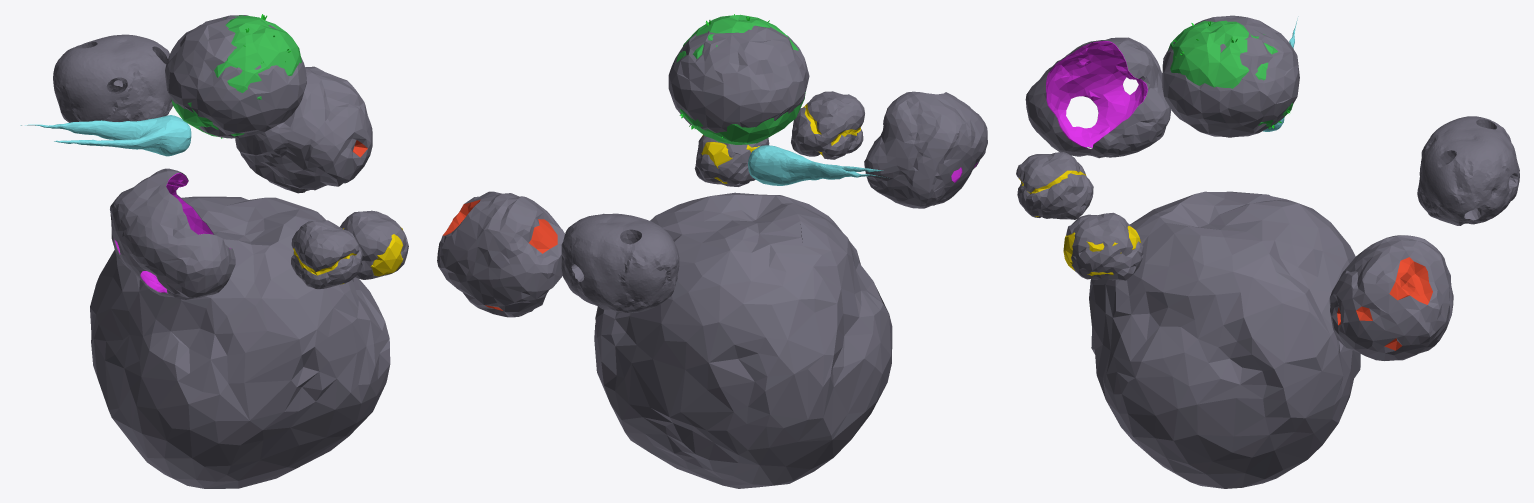
Rendered from Astroids2.fbx.
3 views of the same model, side by side, from view 1: azimuth 30°, elevation 25°; view 2: azimuth 150°, elevation 25°; view 3: azimuth 270°, elevation 25° (orthographic).
Visible parts, largest first — view 1: LargeAsteroid, MoletenMeteor, Geode, MossyAsteroid, ErodedAsteroid, Moss, GoldAsteroid, Comet, GoldAsteroid2, Amethyst, GoldOre; view 2: LargeAsteroid, MoletenMeteor, MossyAsteroid, Geode, ErodedAsteroid, GoldAsteroid, Moss, Comet, GoldAsteroid2; view 3: LargeAsteroid, MoletenMeteor, MossyAsteroid, ErodedAsteroid, Geode, Amethyst, Moss, GoldAsteroid, GoldAsteroid2, GoldOre.
Part boxes in pixels (x1,y1,x2,y2): LargeAsteroid: (90,196,390,488); MoletenMeteor: (235,66,372,193); Geode: (110,168,235,299); MossyAsteroid: (165,15,306,138); ErodedAsteroid: (53,34,172,122); Moss: (171,15,301,138); GoldAsteroid: (291,220,362,289); Comet: (20,115,191,156); GoldAsteroid2: (340,210,408,279); Amethyst: (114,172,230,292); GoldOre: (343,227,403,276); LargeAsteroid: (594,192,892,488); MoletenMeteor: (437,191,564,317); MossyAsteroid: (668,25,809,132); Geode: (864,91,987,208); ErodedAsteroid: (561,213,679,312); GoldAsteroid: (791,91,864,159); Moss: (676,14,805,144); Comet: (748,145,887,185); GoldAsteroid2: (694,135,769,186); LargeAsteroid: (1089,191,1360,488); MoletenMeteor: (1329,235,1453,360); MossyAsteroid: (1162,15,1299,137); ErodedAsteroid: (1417,116,1519,225); Geode: (1025,37,1171,158); Amethyst: (1046,41,1147,149); Moss: (1168,20,1293,127); GoldAsteroid: (1016,152,1093,219); GoldAsteroid2: (1066,212,1143,280); GoldOre: (1063,226,1140,275).
Size of the model in its own units: 3914 by 4307 by 4354.
